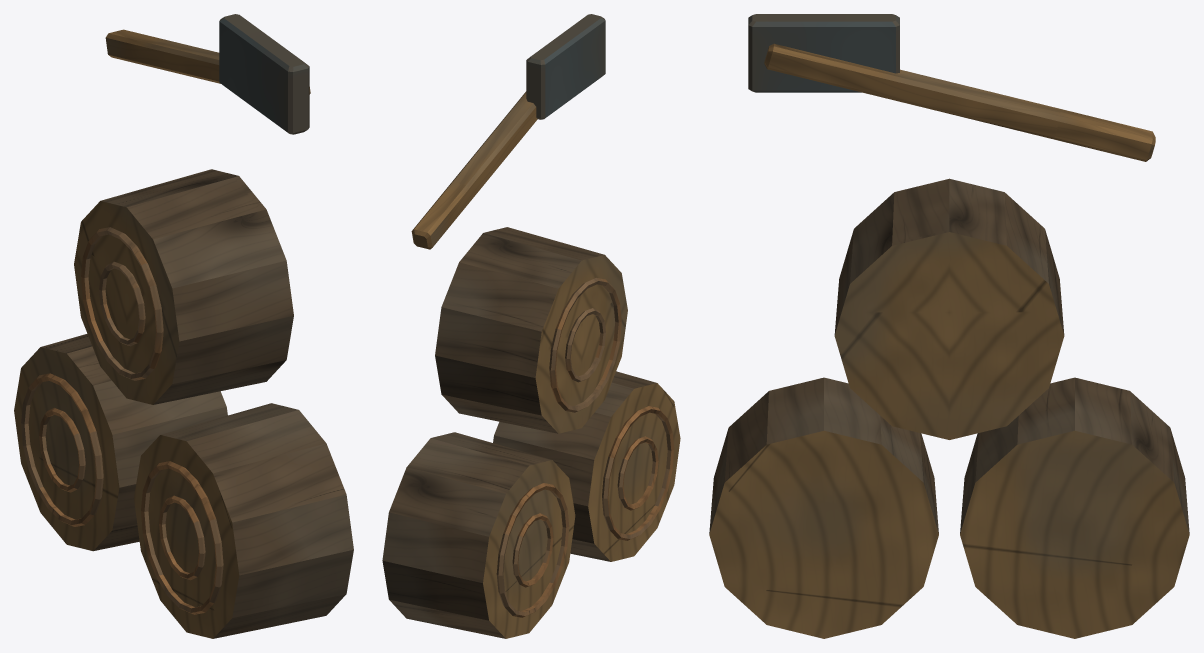
Rendered from b09_coin_relief.fbx.
3 views of the same model, side by side, from view 1: azimuth 30°, elevation 25°; view 2: azimuth 150°, elevation 25°; view 3: azimuth 270°, elevation 25° (orthographic). The views are drawn at different scales.
Visible parts, largest first — view 1: b09_coin_relief; view 2: b09_coin_relief; view 3: b09_coin_relief.
Boxes of the visible parts, box(x1,y1,x2,y2) form: b09_coin_relief: box(14, 14, 353, 638); b09_coin_relief: box(382, 14, 680, 638); b09_coin_relief: box(709, 14, 1189, 638).
Size of the model in its own units: 2776 by 9200 by 12750.
